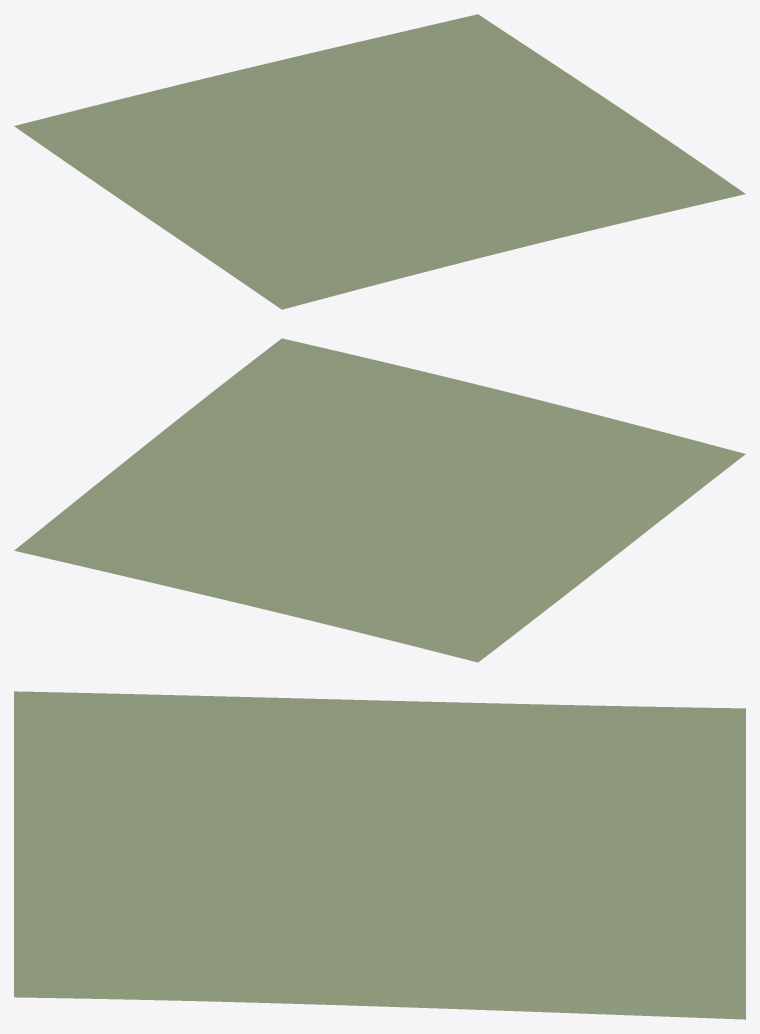
Rendered from expanse-2-12.glb.
The picture shows the model from 3 angles, top to bottom: view 1: azimuth 30°, elevation 25°; view 2: azimuth 150°, elevation 25°; view 3: azimuth 270°, elevation 25°; orthographic projection. The views are drawn at different scales.
Parts seen in each view (by area): view 1: expanse-2-12; view 2: expanse-2-12; view 3: expanse-2-12.
Part boxes in pixels (x1,y1,x2,y2): expanse-2-12: (14,14,745,309); expanse-2-12: (14,338,745,662); expanse-2-12: (14,691,745,1019).
Bounding box in the file's own units: 256 × 9.29 × 256.
